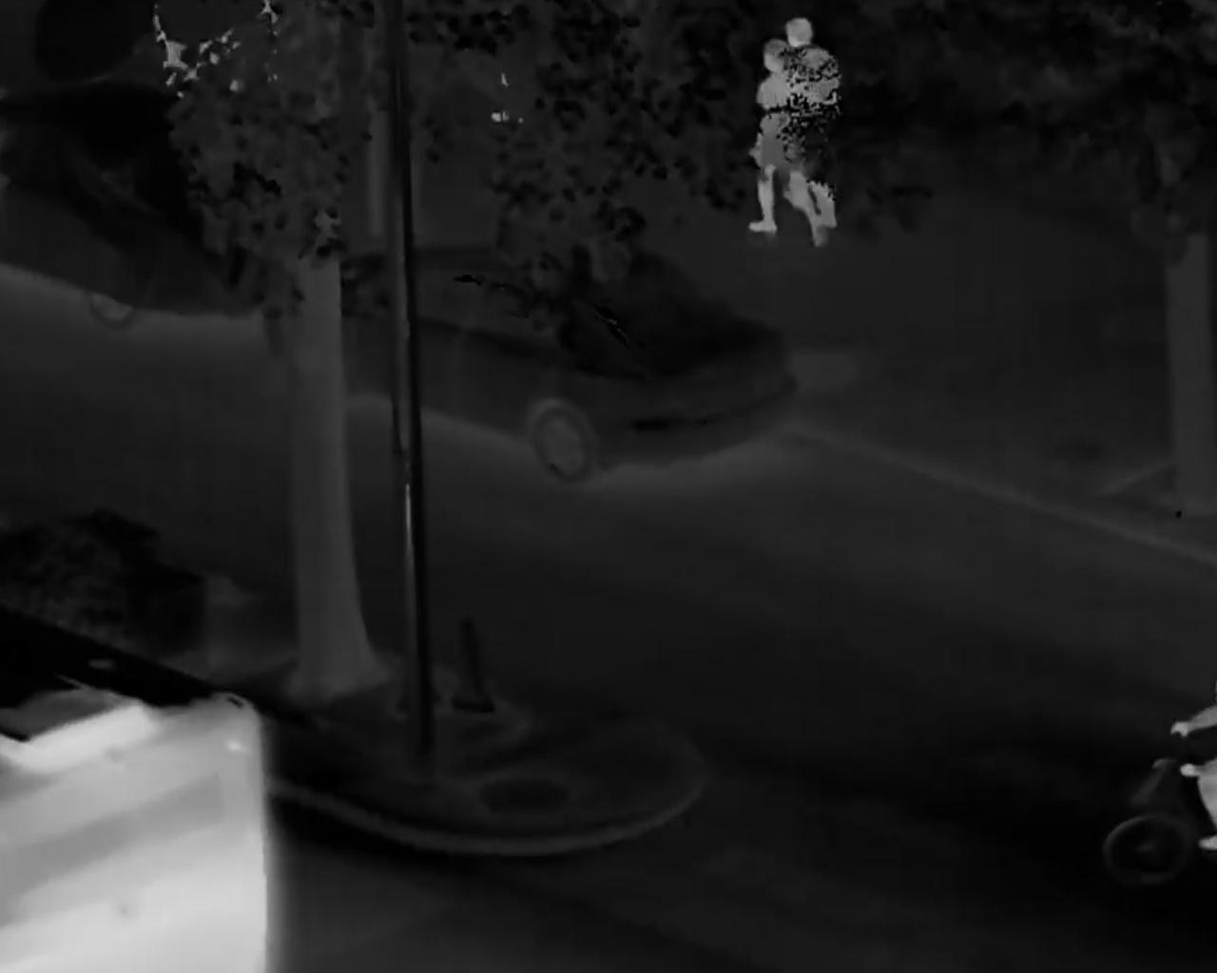person: (745, 40, 822, 249), (774, 20, 838, 230)
